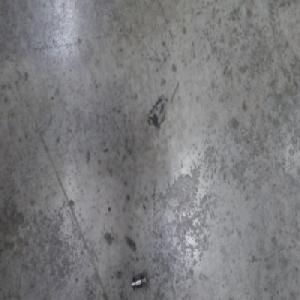Bolt: (130, 272, 147, 292)
